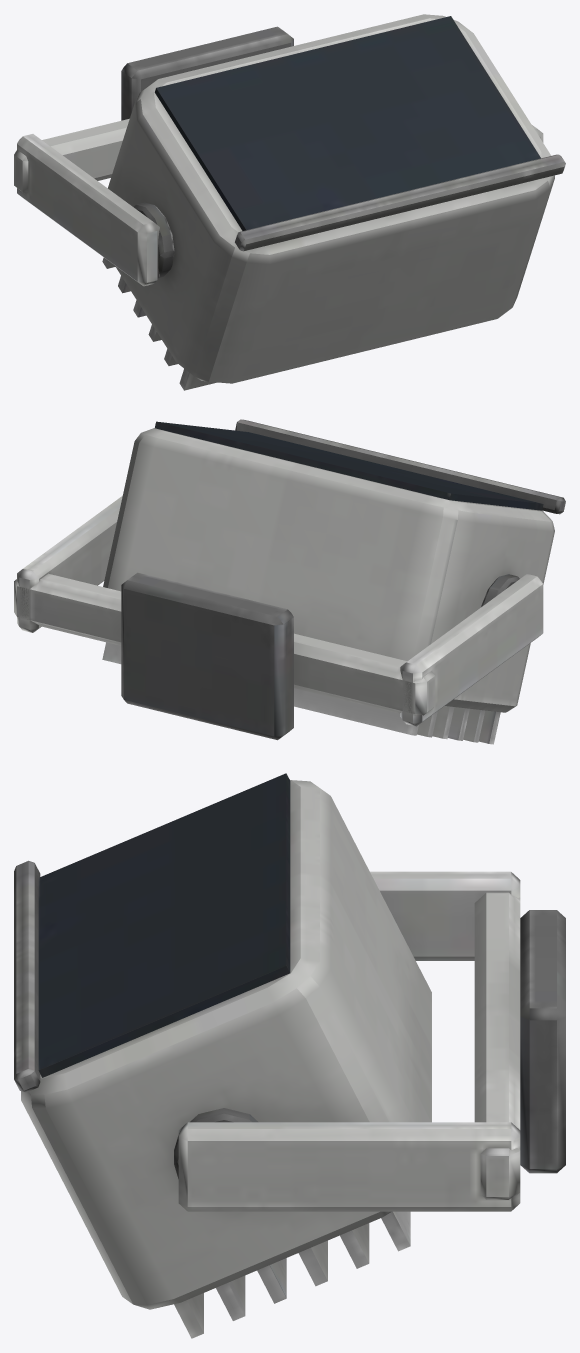
Rendered from floodlight.glb.
3 renders of one model, top to bottom at view 1: azimuth 30°, elevation 25°; view 2: azimuth 150°, elevation 25°; view 3: azimuth 270°, elevation 25°, orthographic. The views are drawn at different scales.
Visible parts, largest first — view 1: floodlight; view 2: floodlight; view 3: floodlight.
Part boxes in pixels (x1,y1,x2,y2): floodlight: [14, 14, 565, 390]; floodlight: [14, 419, 565, 744]; floodlight: [14, 773, 565, 1338].
Bounding box in the file's own units: 0.56 × 0.3565 × 0.4844.
1 material, 1 textured.
